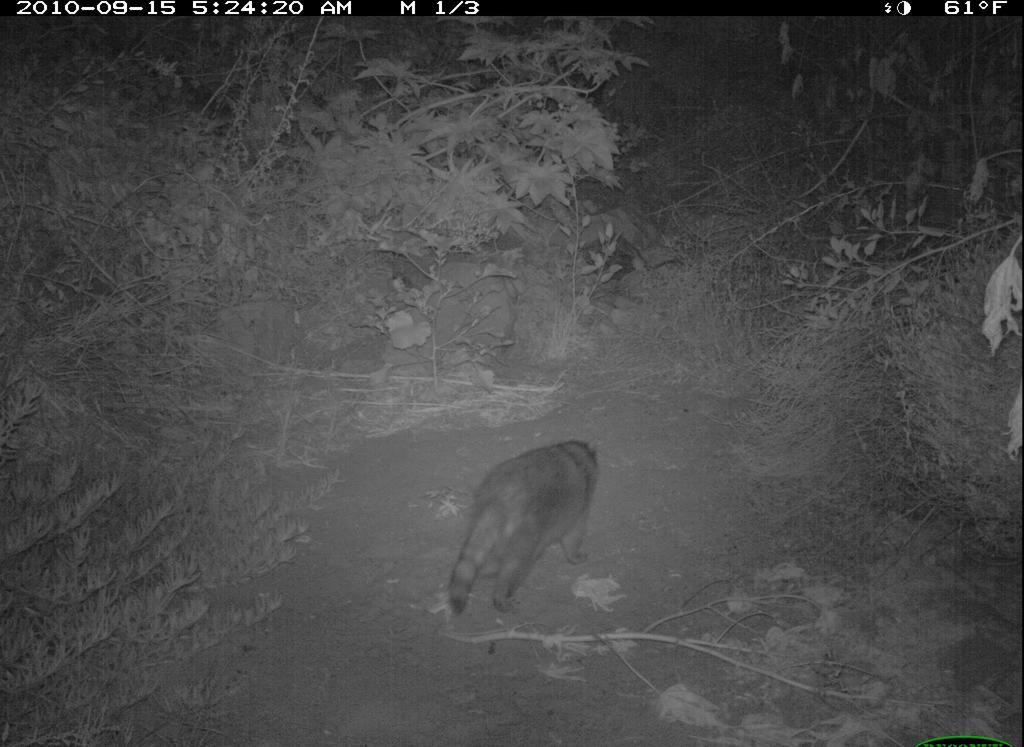raccoon: (436, 425, 616, 614)
